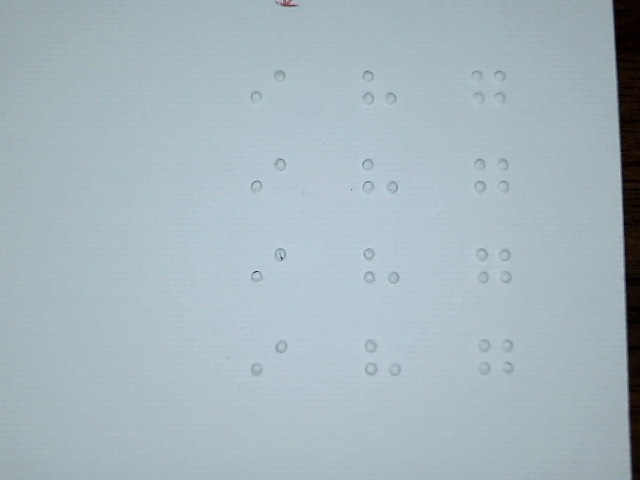G: (470, 58, 509, 126), (473, 146, 512, 214), (474, 237, 513, 305), (476, 327, 515, 395)
H: (360, 58, 399, 126), (361, 146, 400, 214), (361, 238, 400, 306), (363, 329, 402, 397)
I: (249, 59, 288, 127), (249, 145, 288, 213), (249, 328, 288, 396)
